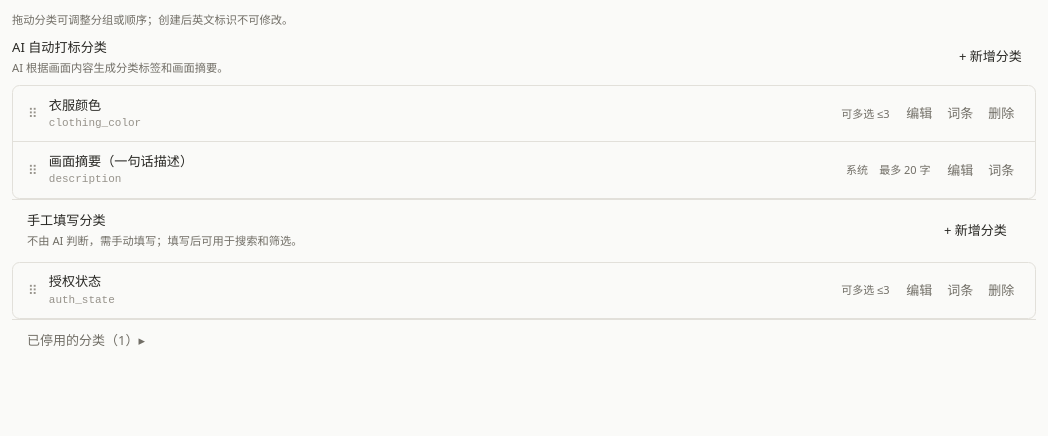
Test case: W4 facetManagePanel_two_groups › 两组列表：ai_and_manual 进 AI 组、manual_only 进手工组、inactive 折叠
Expected: the text "衣服颜色" is shown, [49,96,101,114]
Expected: the heading "AI 自动打标分类" is shown, [12,38,107,56]
展开停用区后出现 + 有恢复按钮
Click the button "已停用的分类（1）▸": x=73, y=340 [12,320,1036,361]
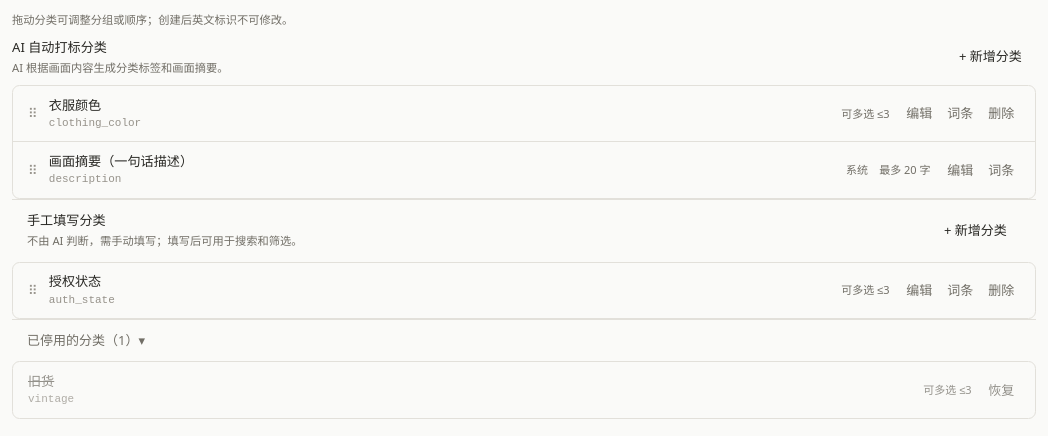
Expected: the text "旧货" is shown, [28,372,54,390]
Expected: the button "恢复" is shown, [983,379,1020,401]
